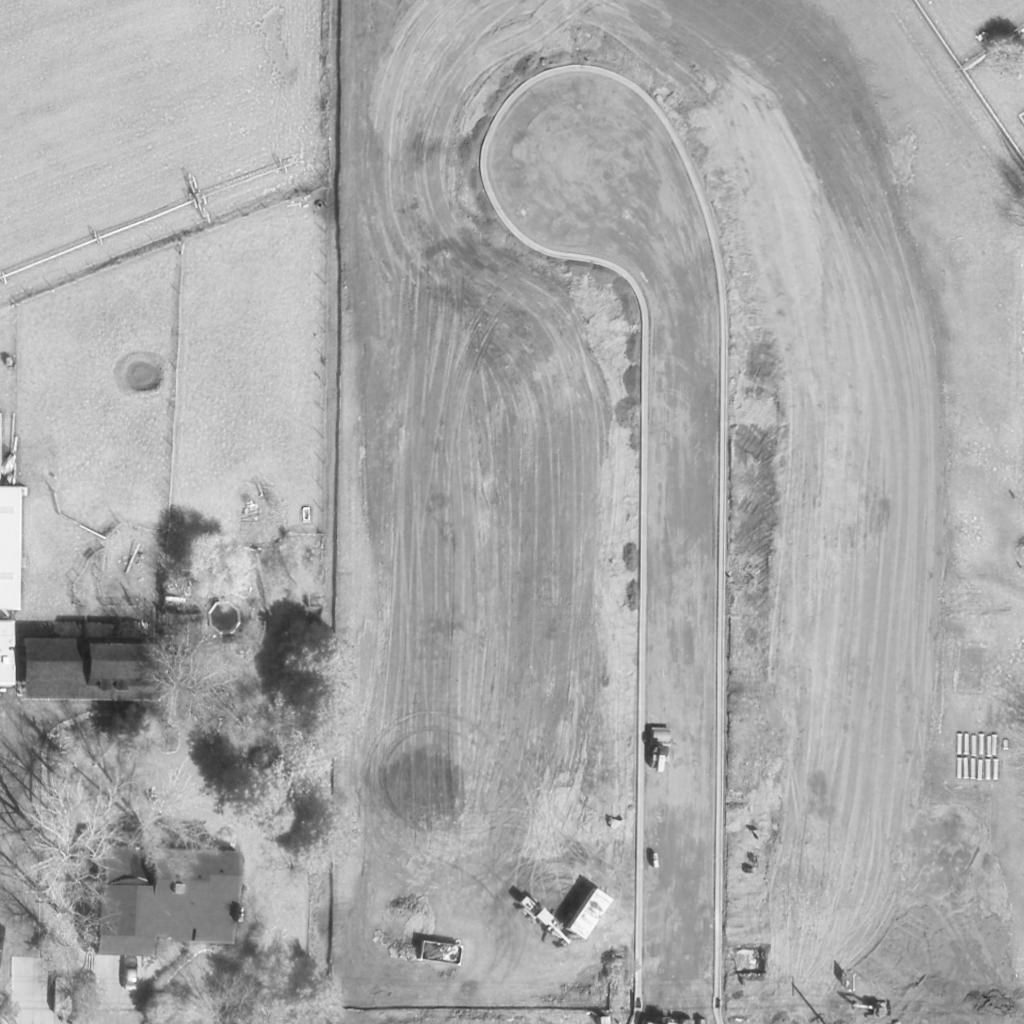vehicle: (516, 892, 576, 952), (648, 727, 672, 773), (850, 1000, 892, 1018), (121, 956, 139, 992)
